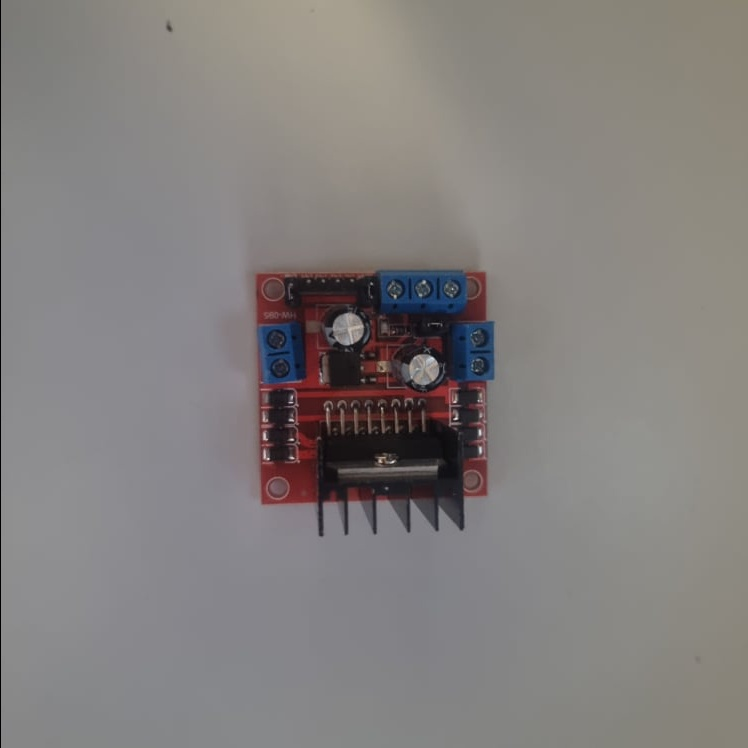MOTOR: (257, 265, 494, 538)
